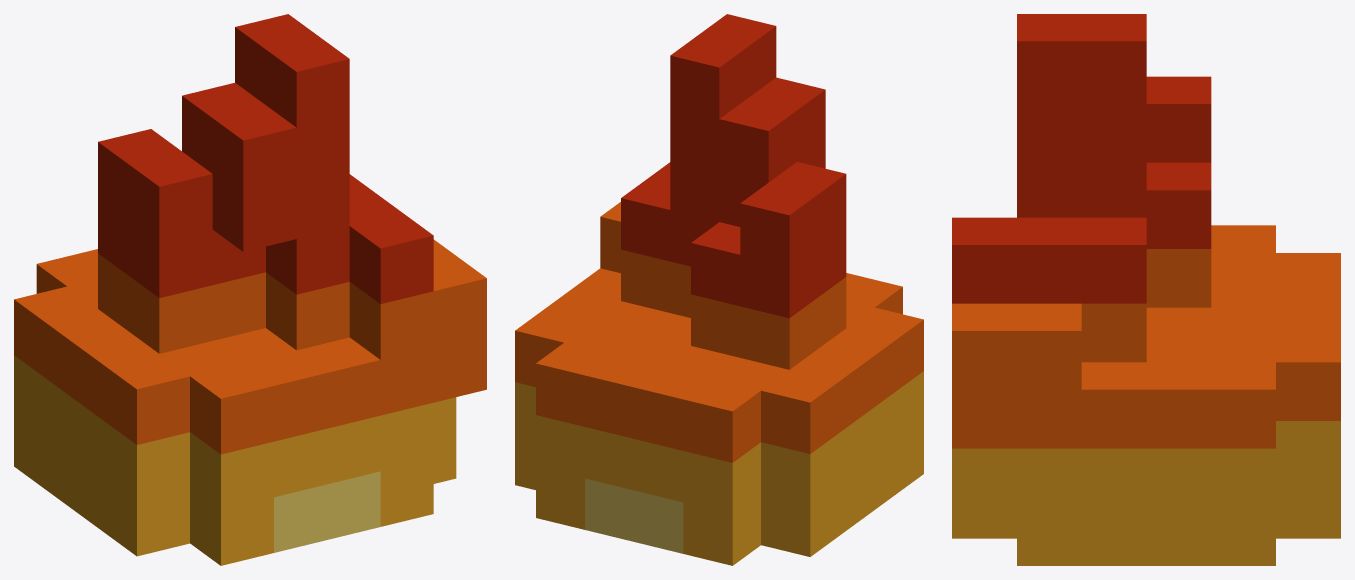
File: flame_03.glb
The picture shows the model from 3 angles, left to right: view 1: azimuth 30°, elevation 25°; view 2: azimuth 150°, elevation 25°; view 3: azimuth 270°, elevation 25°; orthographic projection. The views are drawn at different scales.
Parts seen in each view (by area): view 1: flame_03; view 2: flame_03; view 3: flame_03.
Part boxes in pixels (bbox=[...]): flame_03: bbox=[14, 14, 486, 565]; flame_03: bbox=[515, 14, 923, 565]; flame_03: bbox=[952, 14, 1340, 565].
Bounding box in the file's own units: 0.75 × 1 × 0.75.
